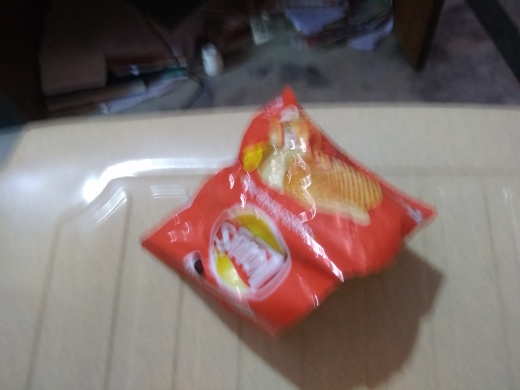lays: (145, 82, 449, 336)
